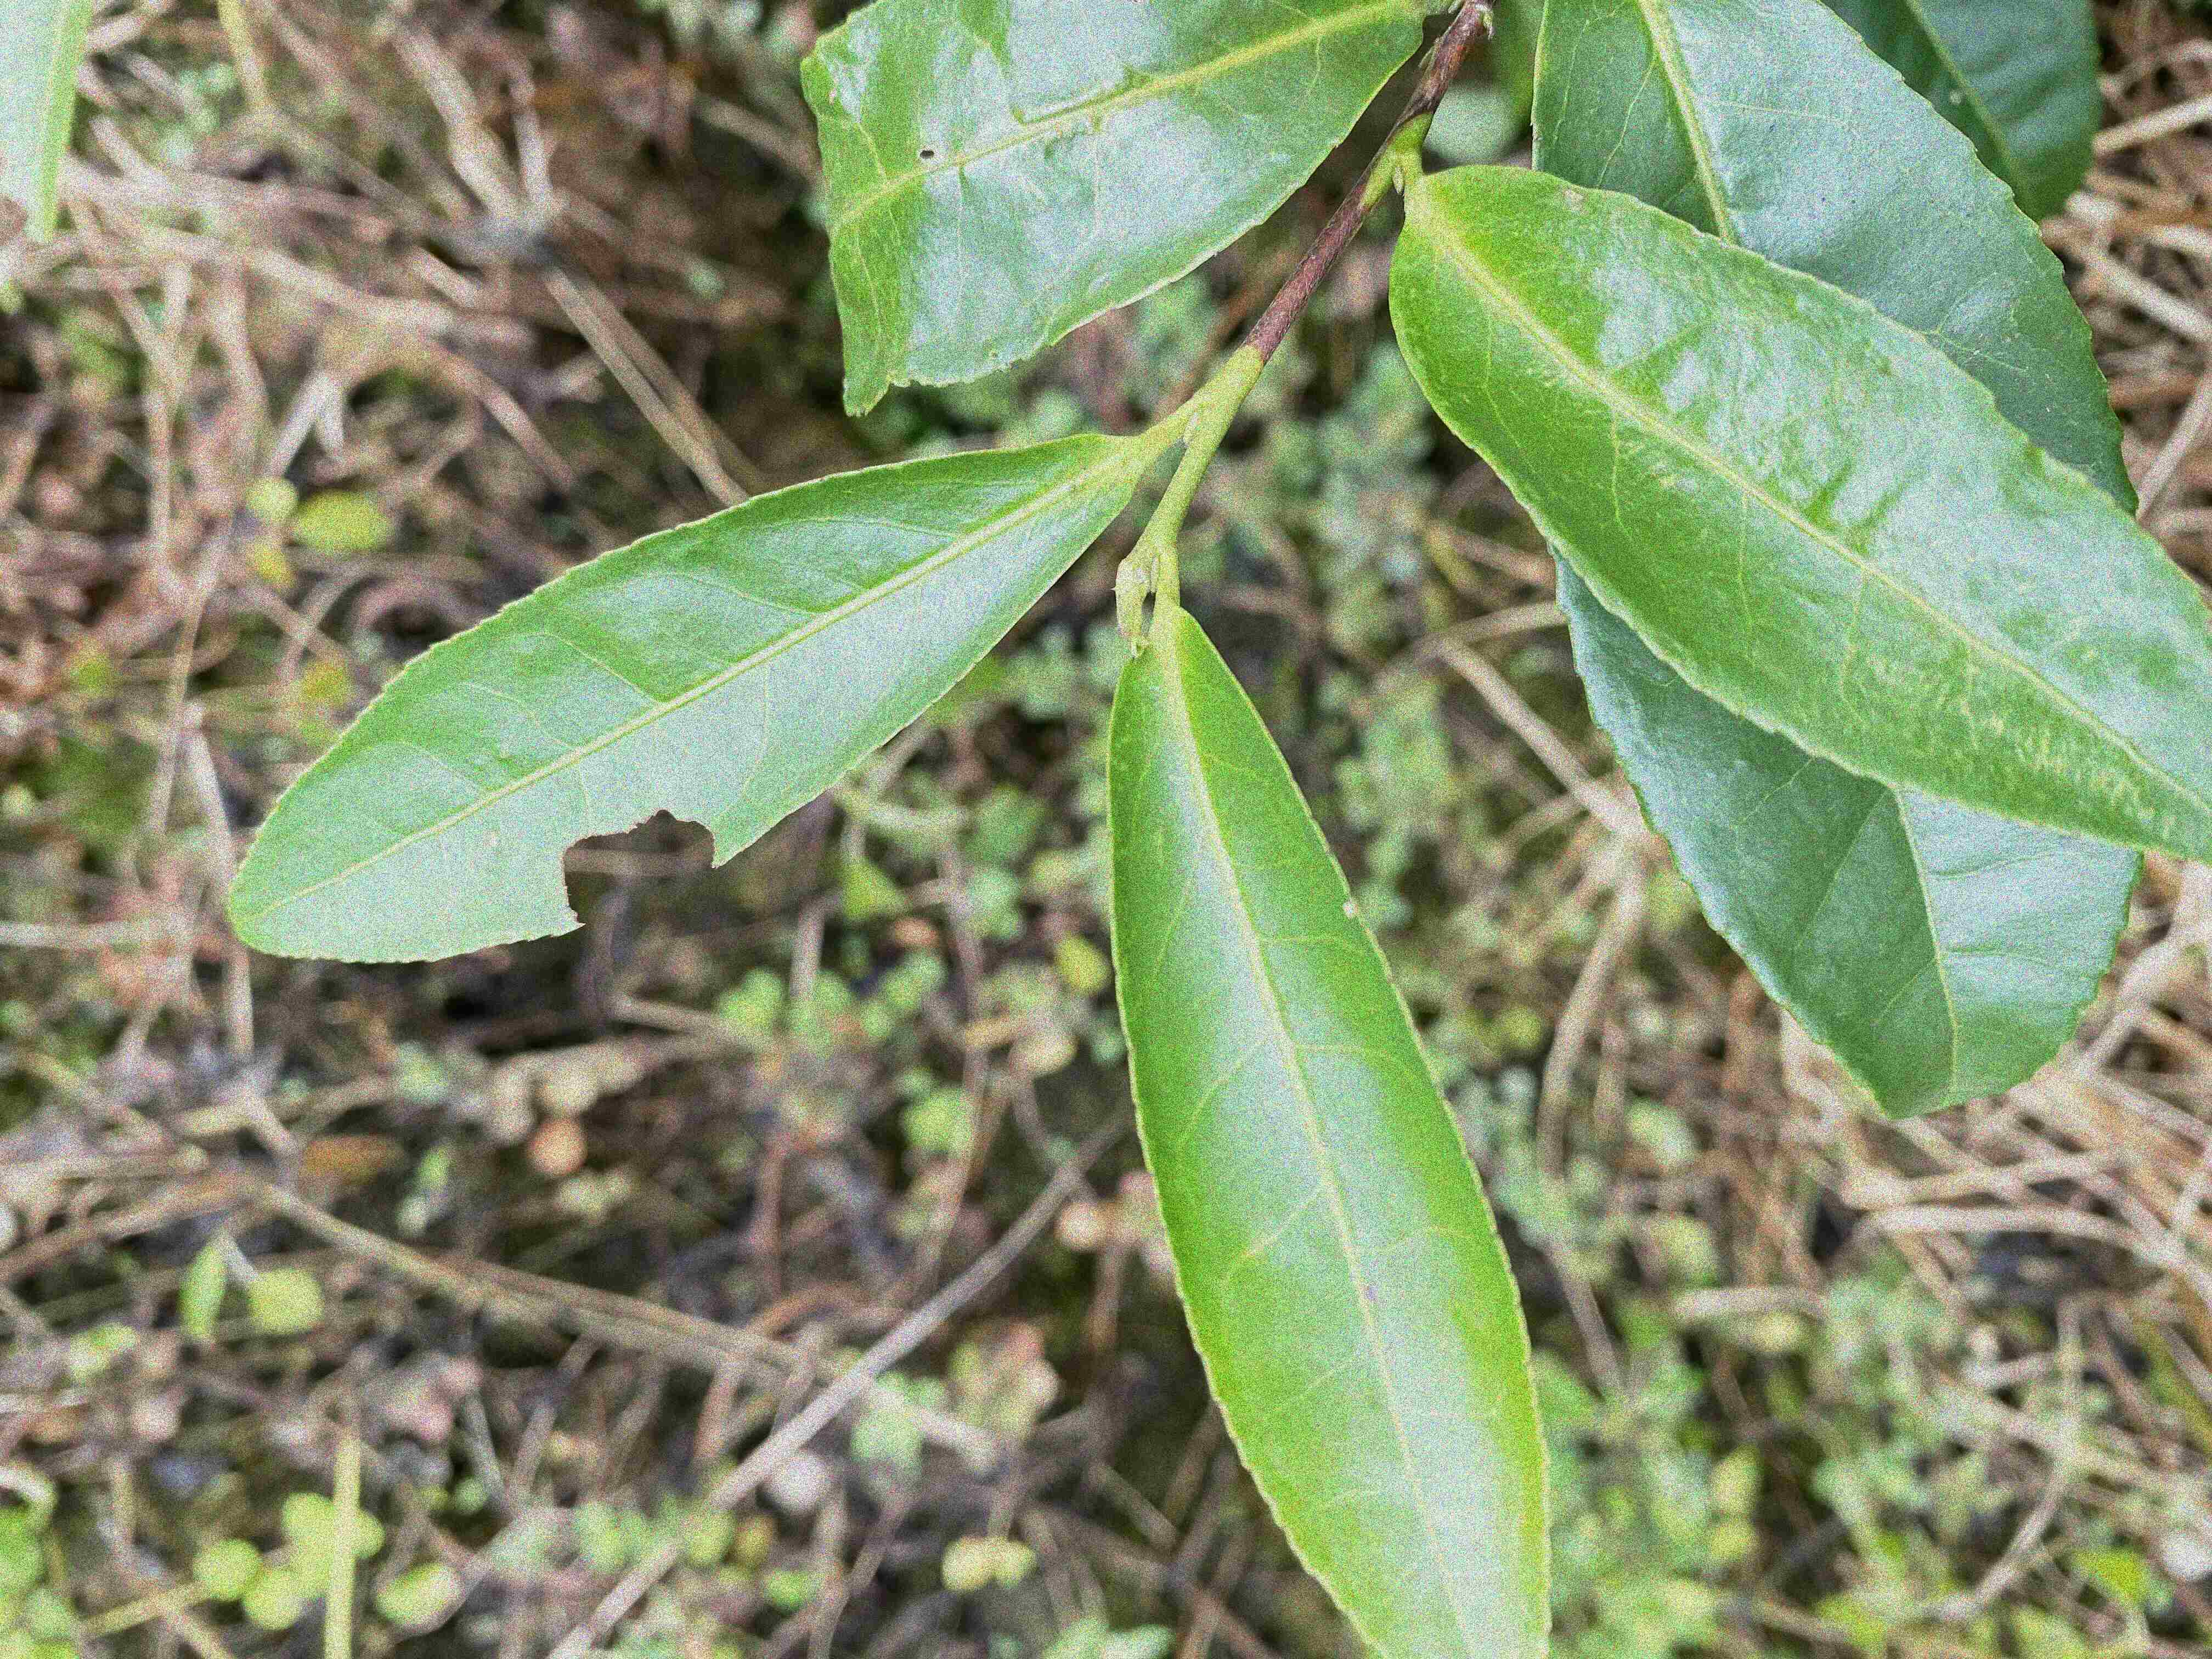chihuo_low: (226, 436, 1144, 960), (792, 2, 1426, 427)
healthy: (1385, 162, 2210, 870), (1103, 605, 1557, 1657)
